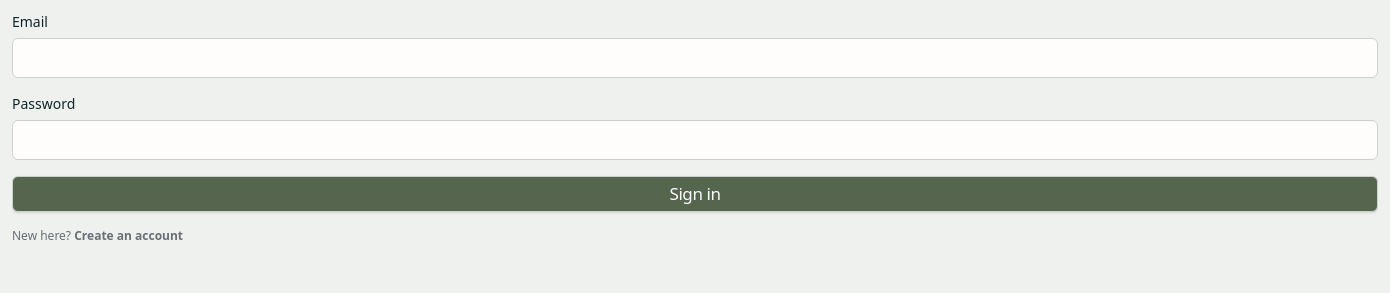
Scenario: LoginForm › shows a connection error when the request throws
The width and height of the screenshot is (1390, 293).
Type "jane@example.com" into the field labelled "Email" at (695, 58), box [12, 38, 1378, 78]
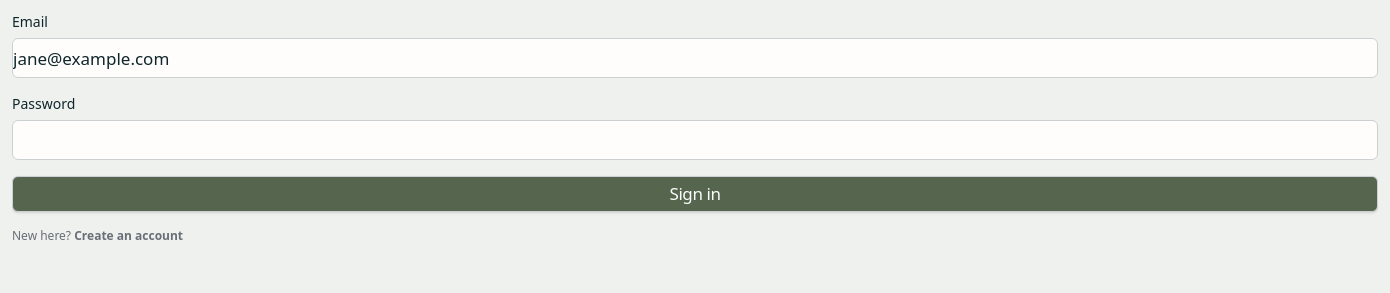
Type "correctpassword" into the password field labelled "Password" at (695, 140), box [12, 120, 1378, 160]
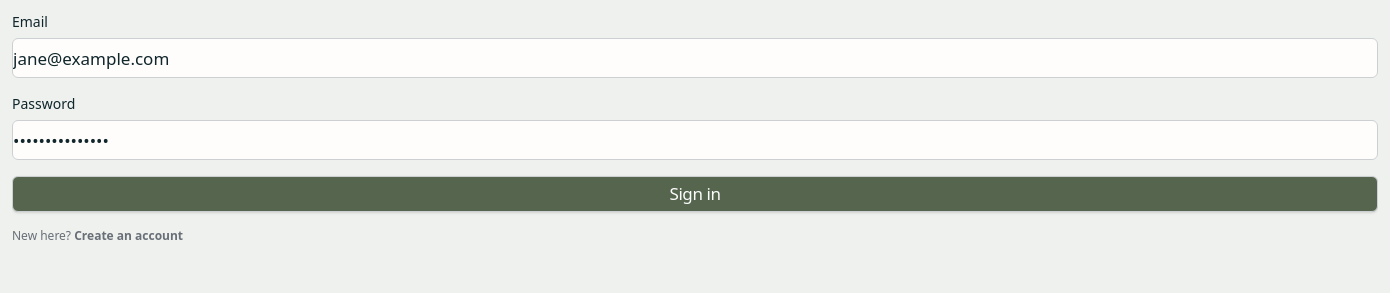
Click the button "Sign in" at (695, 194), box [12, 176, 1378, 212]
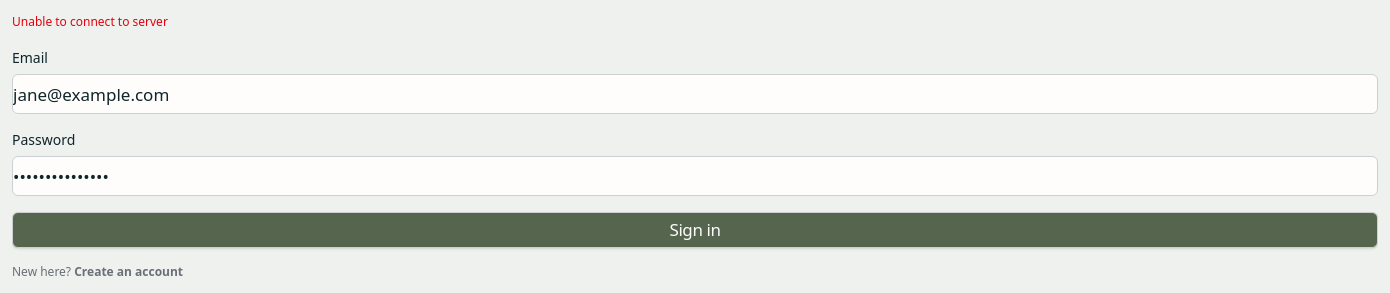
Expected: the text "Unable to connect to server" is shown, [12, 13, 168, 30]
